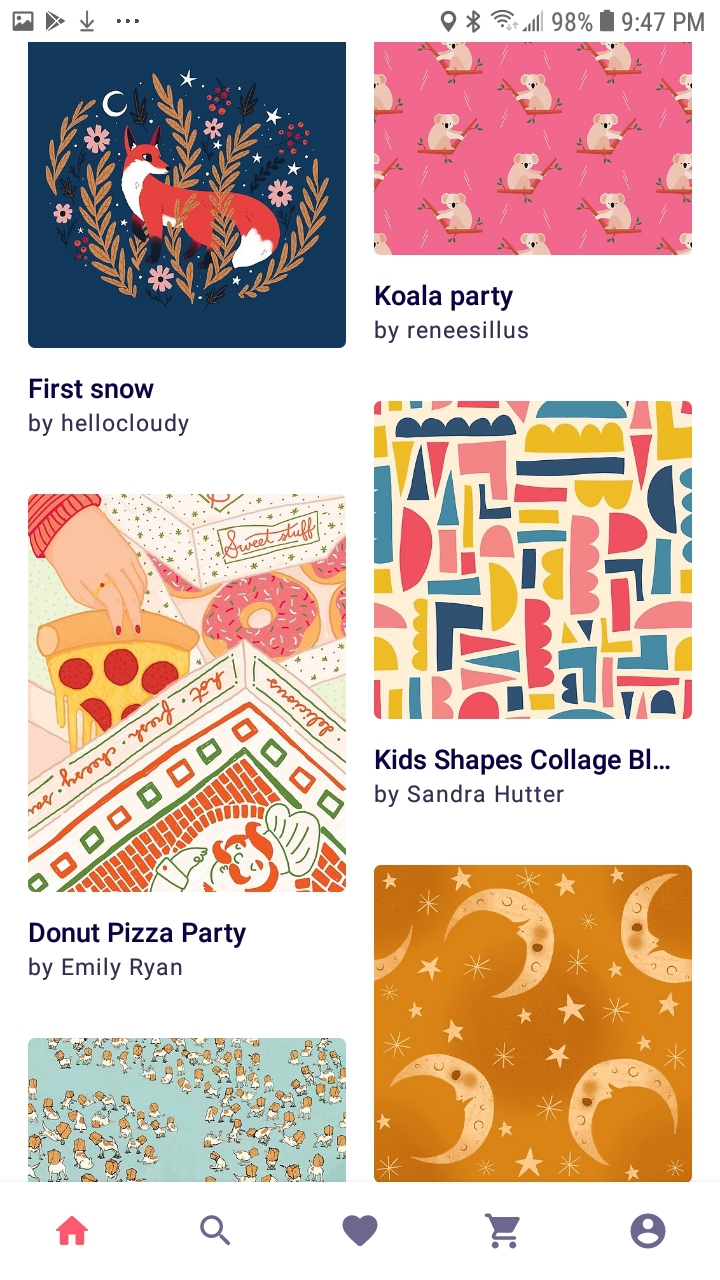Icon: (630, 1213, 666, 1249), (485, 1213, 521, 1249), (342, 1214, 378, 1246), (56, 1216, 89, 1245), (201, 1215, 231, 1245)
Image: (29, 494, 347, 893), (373, 401, 692, 720), (373, 865, 692, 1182), (28, 42, 347, 349), (374, 42, 692, 256), (29, 1038, 347, 1182)
Text: (375, 747, 671, 776), (30, 921, 248, 949), (375, 783, 565, 807), (30, 413, 191, 438), (375, 284, 513, 312), (29, 956, 183, 981), (375, 320, 529, 344), (30, 377, 155, 400)
UpperTaskBar: (2, 1, 720, 36)
